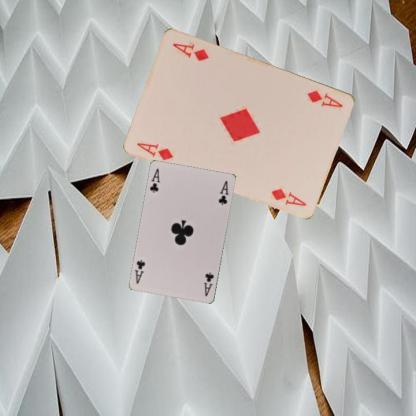Ac: (148, 166, 162, 194), (201, 270, 215, 297)
Ad: (134, 138, 175, 162), (305, 86, 344, 108)
